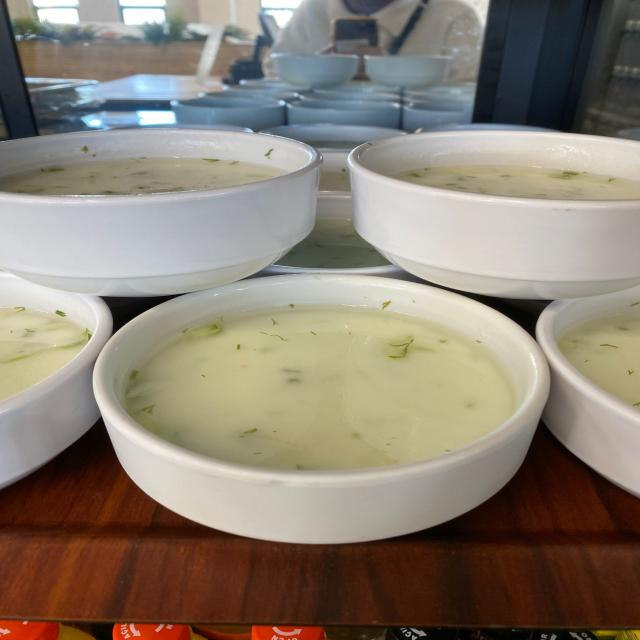corba: (133, 307, 480, 527)
